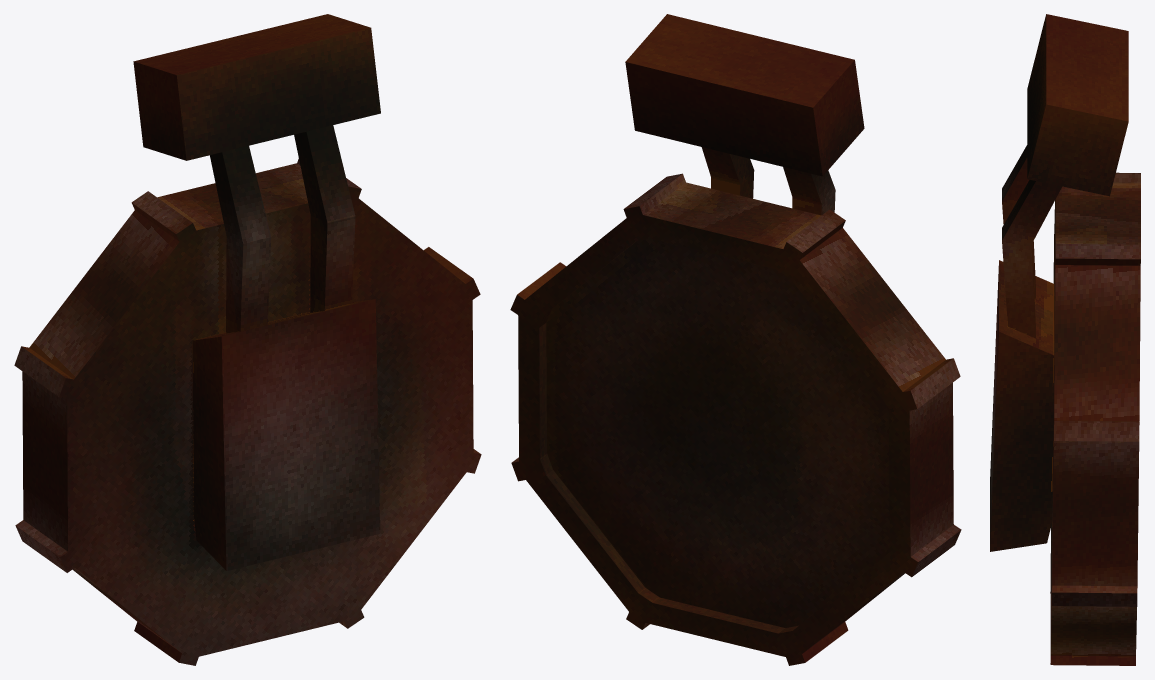
The model's file is PROPE.glb.
3 views of the same model, side by side, from view 1: azimuth 30°, elevation 25°; view 2: azimuth 150°, elevation 25°; view 3: azimuth 270°, elevation 25° (orthographic). The views are drawn at different scales.
Parts seen in each view (by area): view 1: Cube.002; view 2: Cube.002; view 3: Cube.002.
Boxes of the visible parts, box(x1,y1,x2,y2) form: Cube.002: box(14, 14, 481, 665); Cube.002: box(510, 14, 961, 665); Cube.002: box(990, 14, 1140, 665).
Size of the model in its own units: 2.51 by 3.4 by 0.8159.
1 material, 1 textured.
